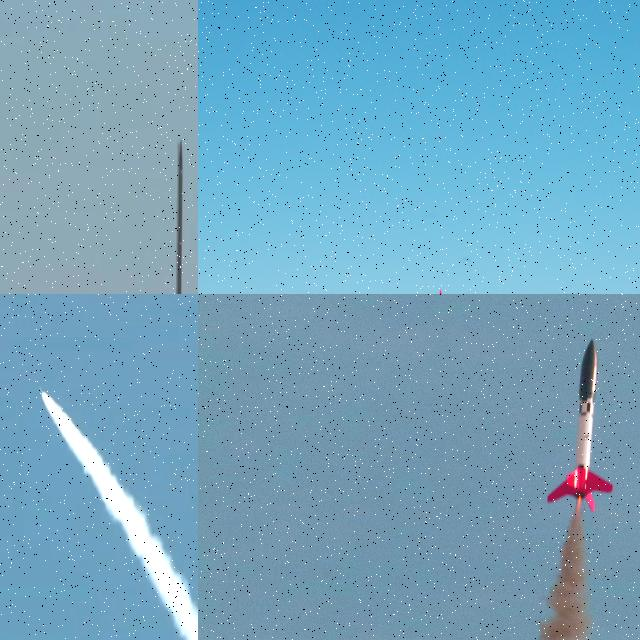Rocket: (546, 337, 615, 513), (172, 140, 186, 294), (39, 388, 43, 393)
